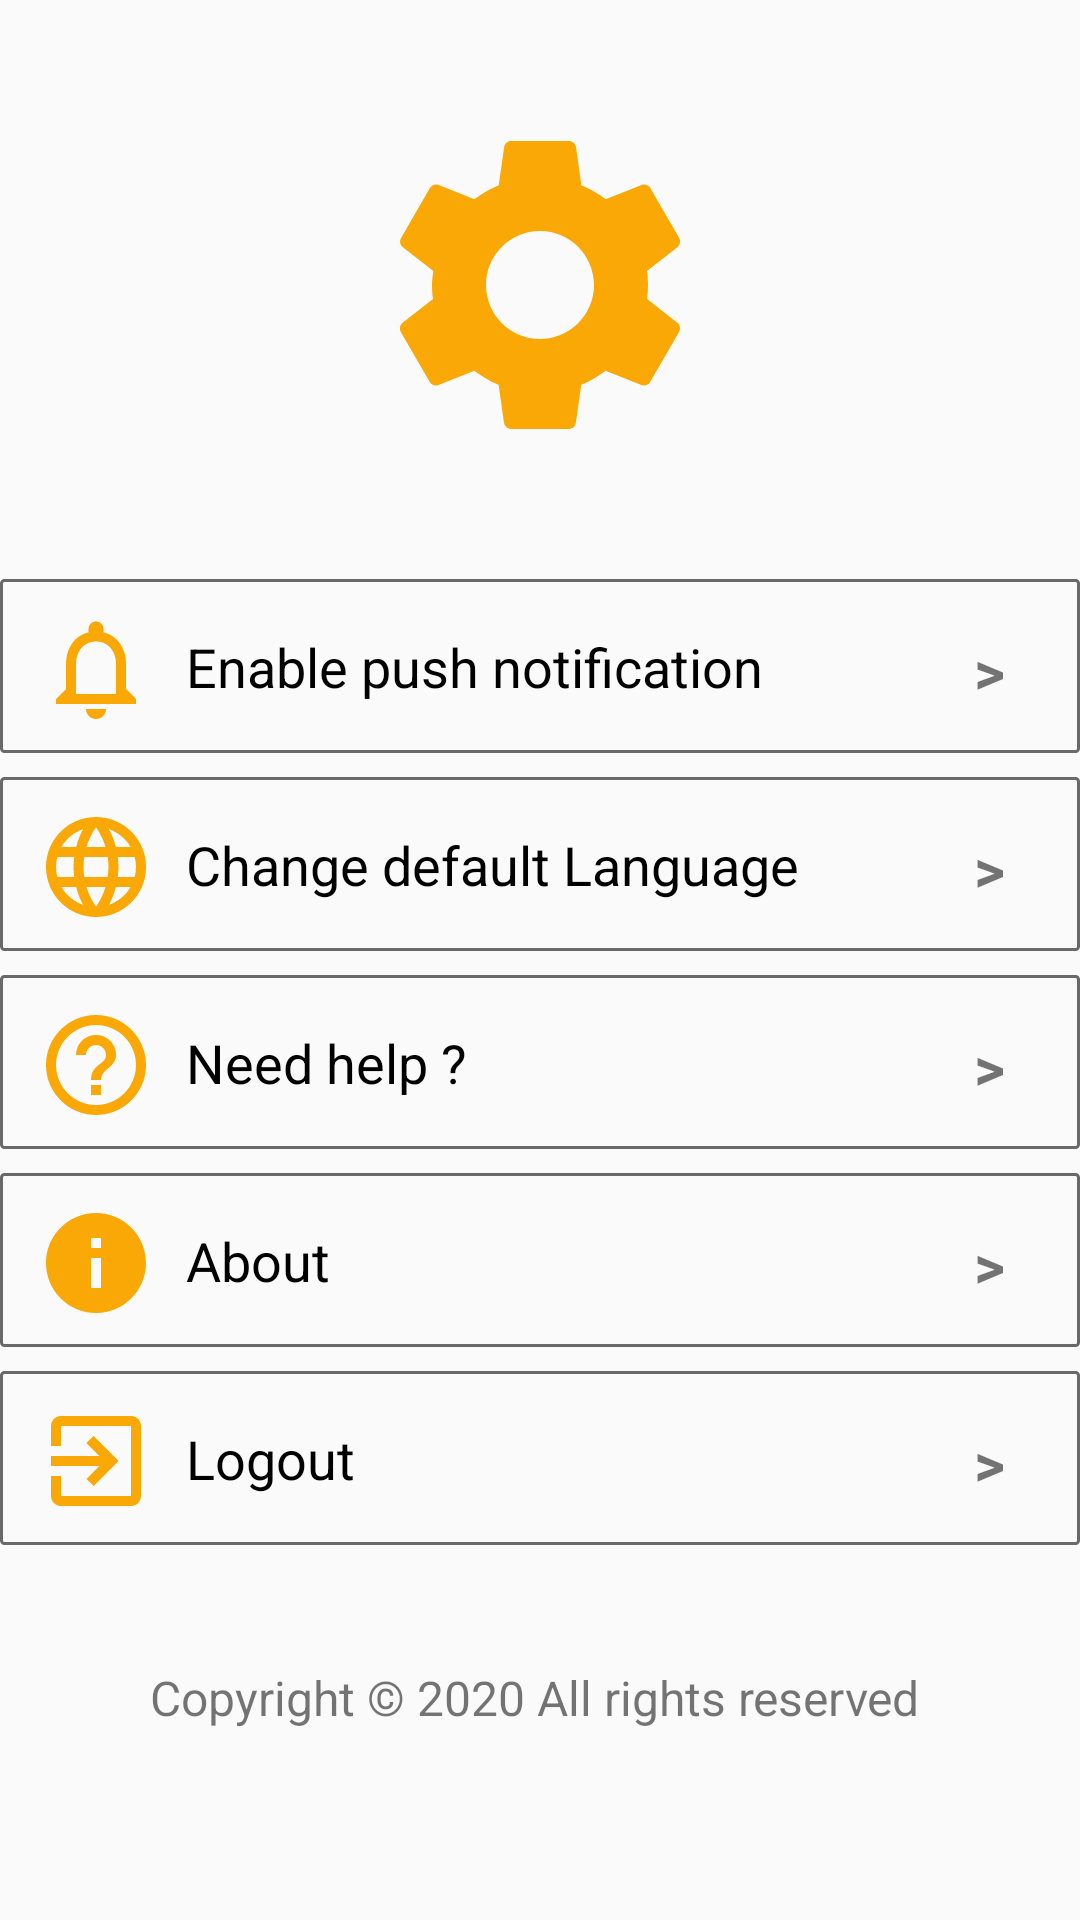

Point at icon controls on the screen. Image size 1080px×1920px, points as (x,y).
exit to app: (96,1461)
info: (96,1263)
notifications none: (96,670)
settings: (540,285)
